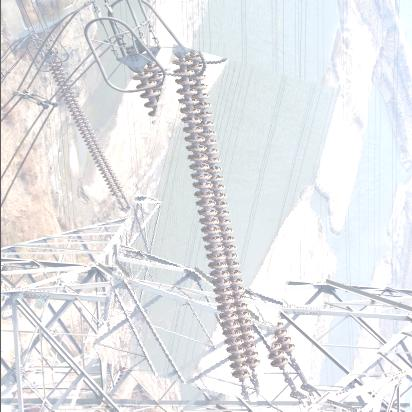insulator: (110, 54, 322, 395)
